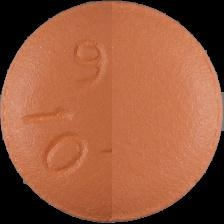0093-1077: (0, 0, 224, 224)
